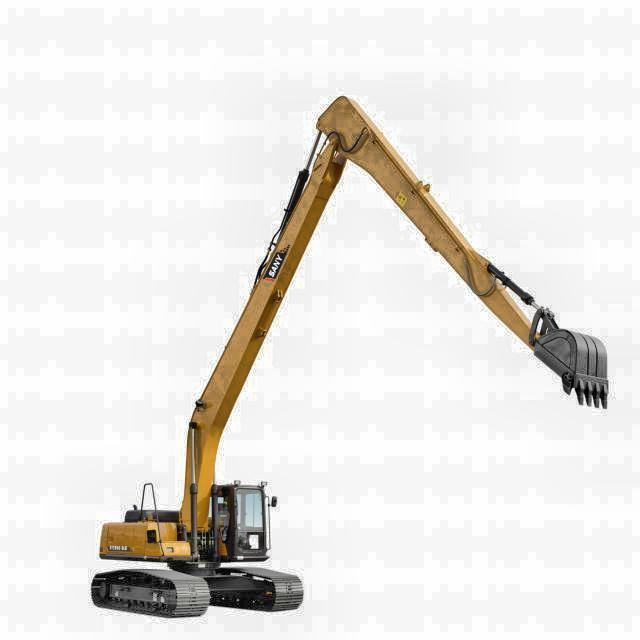excavator: (90, 88, 616, 619)
